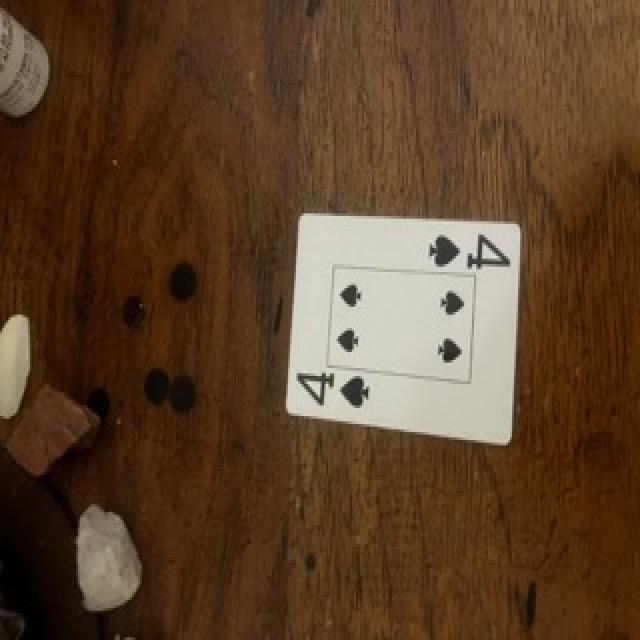4 of spades: (286, 213, 520, 445)
